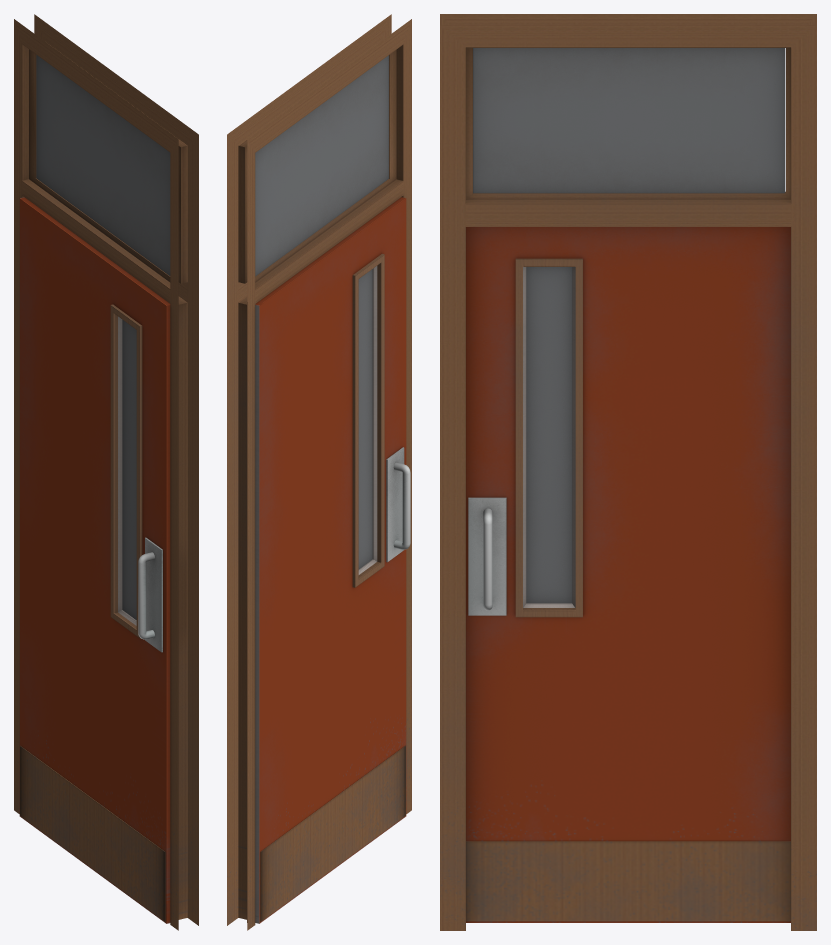
The model's file is DoorB1.fbx.
3 renders of one model, left to right at view 1: azimuth 30°, elevation 25°; view 2: azimuth 150°, elevation 25°; view 3: azimuth 270°, elevation 25°, orthographic. The views are drawn at different scales.
Parts seen in each view (by area): view 1: Door1, Frame1, Glass, Glass2; view 2: Door1, Frame1, Glass, Glass2; view 3: Door1, Frame1, Glass, Glass2.
Part boxes in pixels (left/top/right/bottom): Door1: left=19, top=197, right=170, bottom=923; Frame1: left=14, top=14, right=198, bottom=930; Glass: left=36, top=55, right=170, bottom=275; Glass2: left=122, top=320, right=136, bottom=619; Door1: left=255, top=197, right=410, bottom=923; Frame1: left=227, top=14, right=411, bottom=930; Glass: left=255, top=55, right=388, bottom=276; Glass2: left=358, top=269, right=372, bottom=569; Door1: left=466, top=227, right=790, bottom=922; Frame1: left=440, top=14, right=816, bottom=930; Glass: left=473, top=48, right=785, bottom=193; Glass2: left=526, top=267, right=572, bottom=603.
Size of the model in its own units: 15.5 by 271 by 102.
